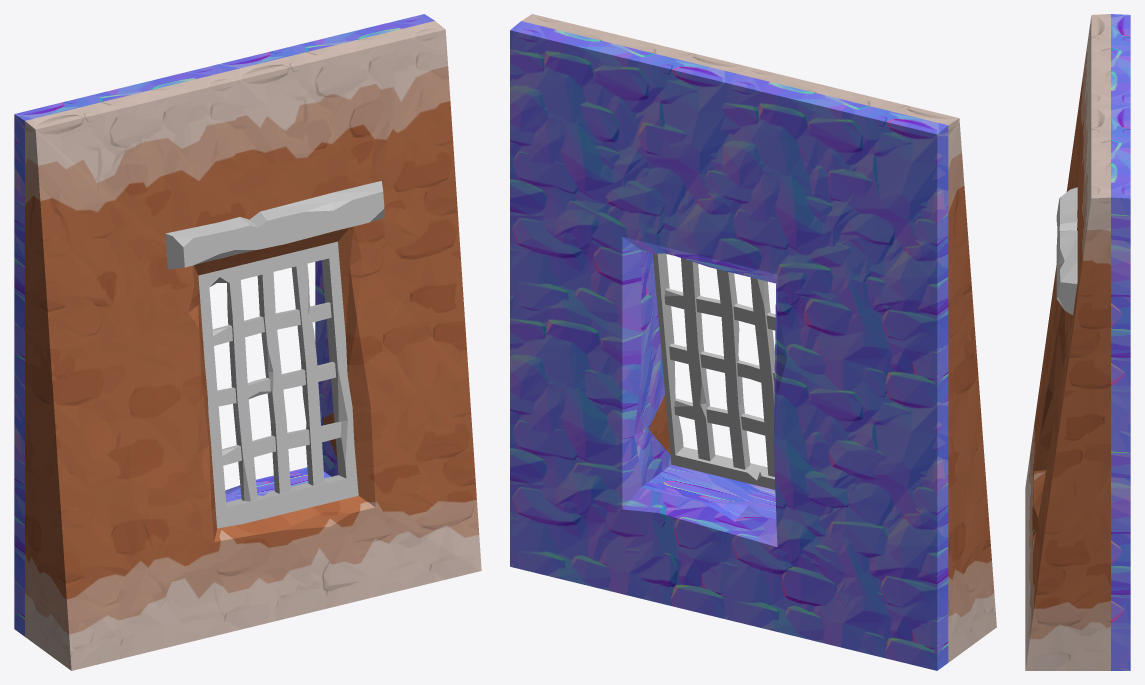
File: SM_Bld_Wall_Top_Window_03.fbx
3 renders of one model, left to right at view 1: azimuth 30°, elevation 25°; view 2: azimuth 150°, elevation 25°; view 3: azimuth 270°, elevation 25°, orthographic. The views are drawn at different scales.
Parts seen in each view (by area): view 1: SM_Bld_Wall_Top_Window_03; view 2: SM_Bld_Wall_Top_Window_03; view 3: SM_Bld_Wall_Top_Window_03.
Boxes of the visible parts, <box> form: SM_Bld_Wall_Top_Window_03: <box>14,14,481,670</box>; SM_Bld_Wall_Top_Window_03: <box>510,14,996,670</box>; SM_Bld_Wall_Top_Window_03: <box>1025,14,1130,670</box>.
Bounding box in the file's own units: 250 × 301 × 60.45.
